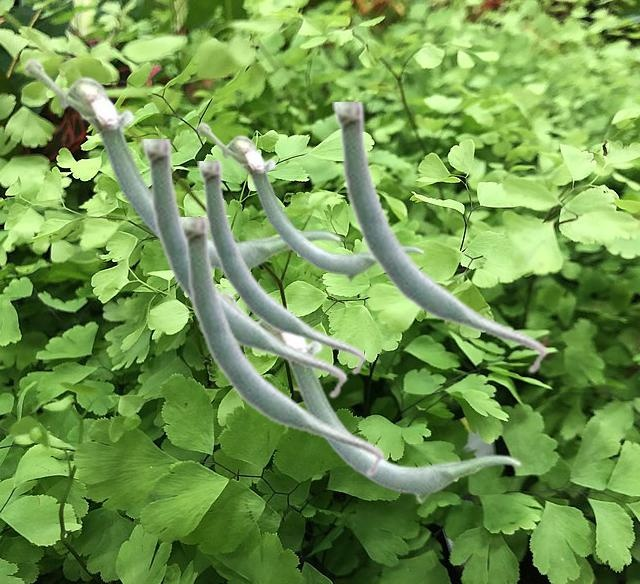french_bean: (23, 57, 341, 274), (219, 289, 521, 503), (332, 102, 547, 374), (141, 139, 347, 399), (178, 217, 384, 477), (196, 121, 424, 281), (197, 161, 366, 375)
